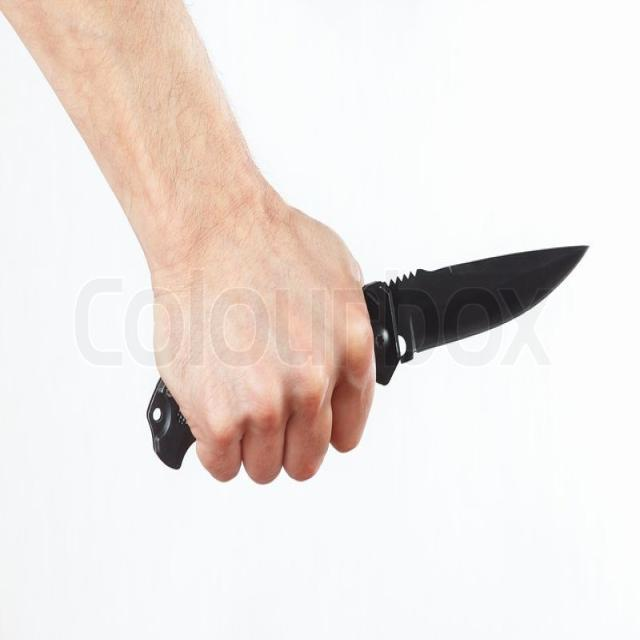knife: (150, 244, 596, 478)
